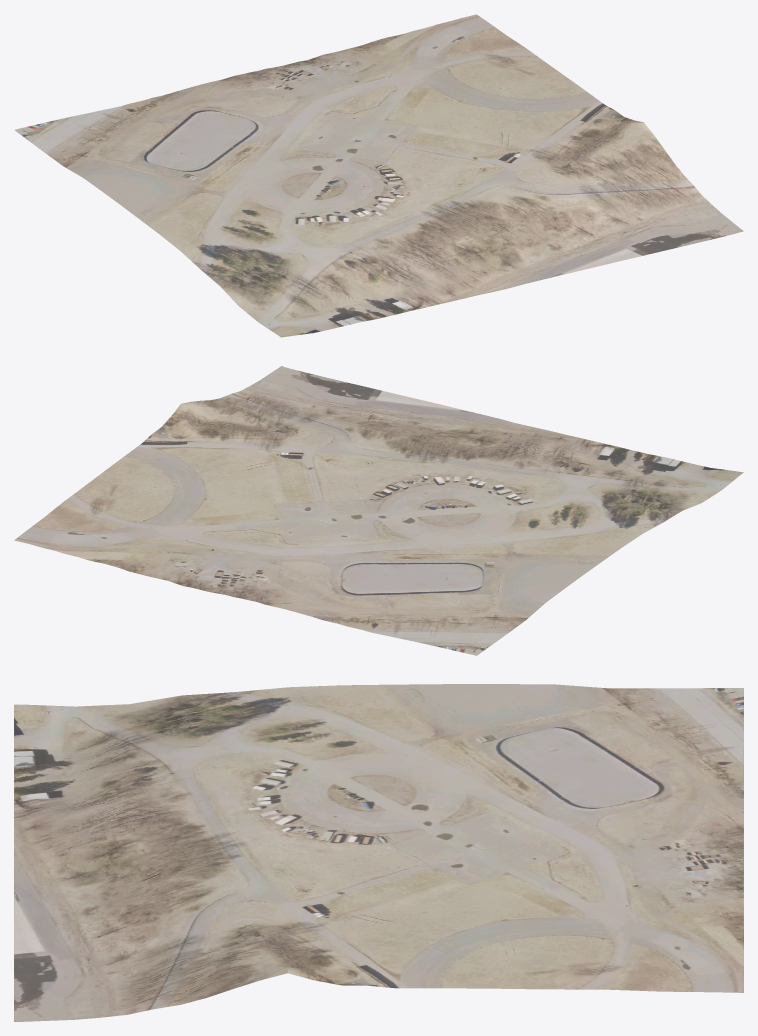
Rendered from CM_Terrain_24492506_6816108.fbx.
3 views of the same model, one above another, from view 1: azimuth 30°, elevation 25°; view 2: azimuth 150°, elevation 25°; view 3: azimuth 270°, elevation 25° (orthographic). The views are drawn at different scales.
Parts seen in each view (by area): view 1: CM_Terrain_24492506_6816108_LOD0; view 2: CM_Terrain_24492506_6816108_LOD0; view 3: CM_Terrain_24492506_6816108_LOD0.
Part boxes in pixels (x1,y1,x2,y2): CM_Terrain_24492506_6816108_LOD0: (14,14,743,337); CM_Terrain_24492506_6816108_LOD0: (14,366,743,655); CM_Terrain_24492506_6816108_LOD0: (14,684,743,1021).
Size of what is drawn, in the model's own units: 205 by 15.28 by 205.
